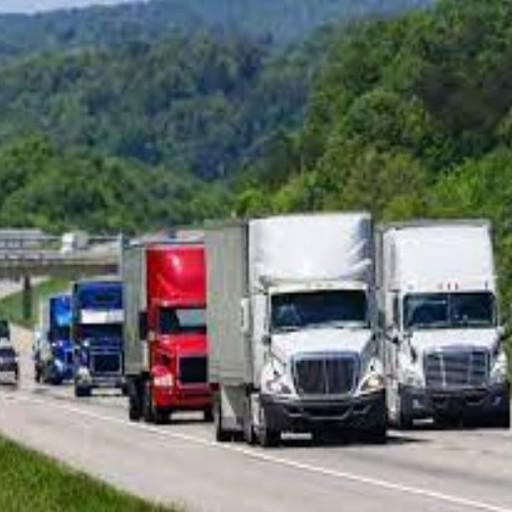truck: (200, 209, 396, 451), (366, 218, 512, 430), (115, 238, 224, 428), (65, 274, 138, 394)
